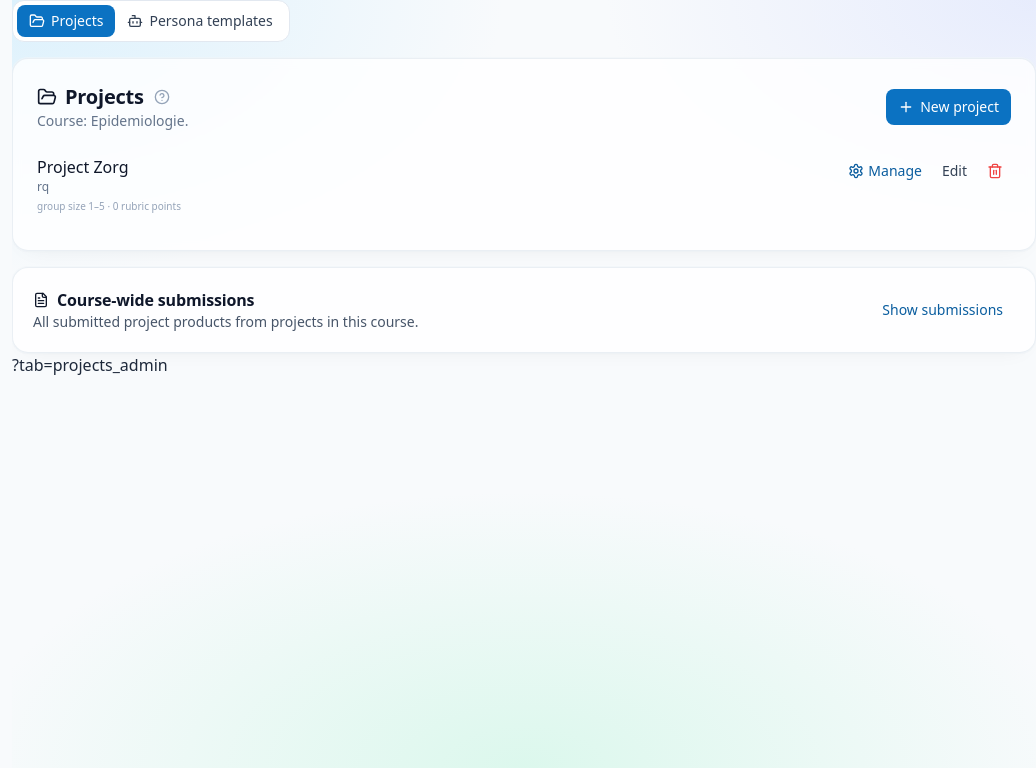
Projecten → Persona-sjablonen › toont standaard de projecten, met een tabblad naar de persona-sjablonen
Check: the list item with test id "project-row-p1" is shown, box [37,143,1011,226]
Click the tab with test id "tab-projects-view-templates" at (200, 21), box [115,5,285,37]
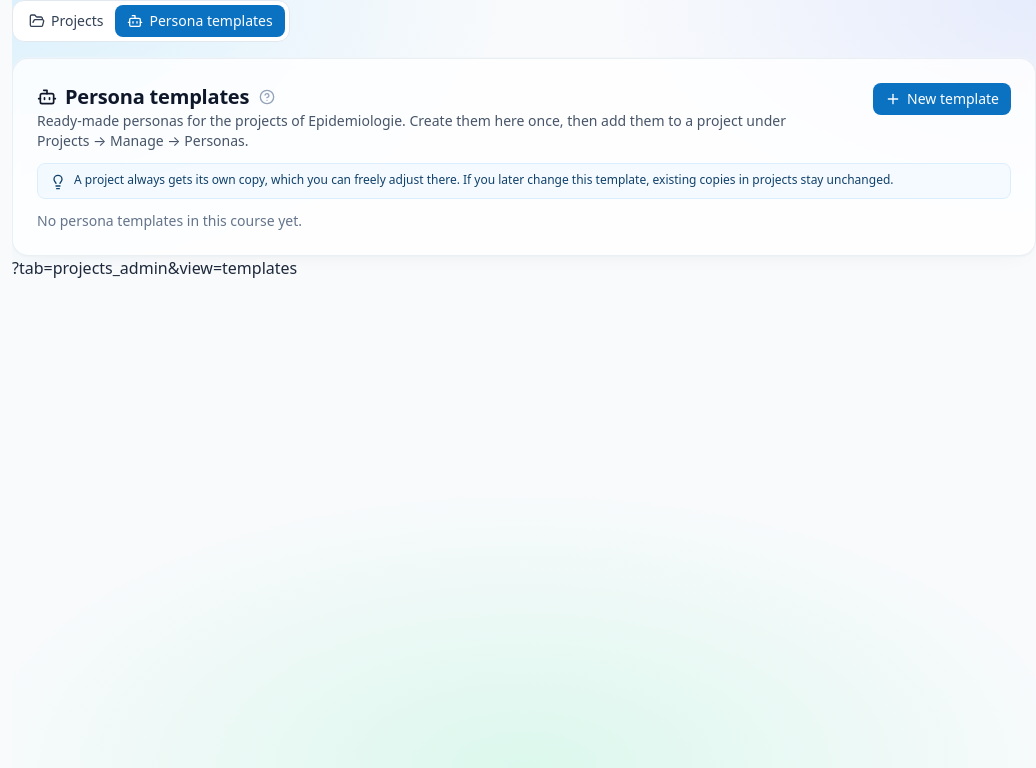
Check: the text with test id "location" shows "view=templates", box [12,257,297,279]
Check: the button with test id "button-new-cp" is shown, box [873,83,1011,115]
